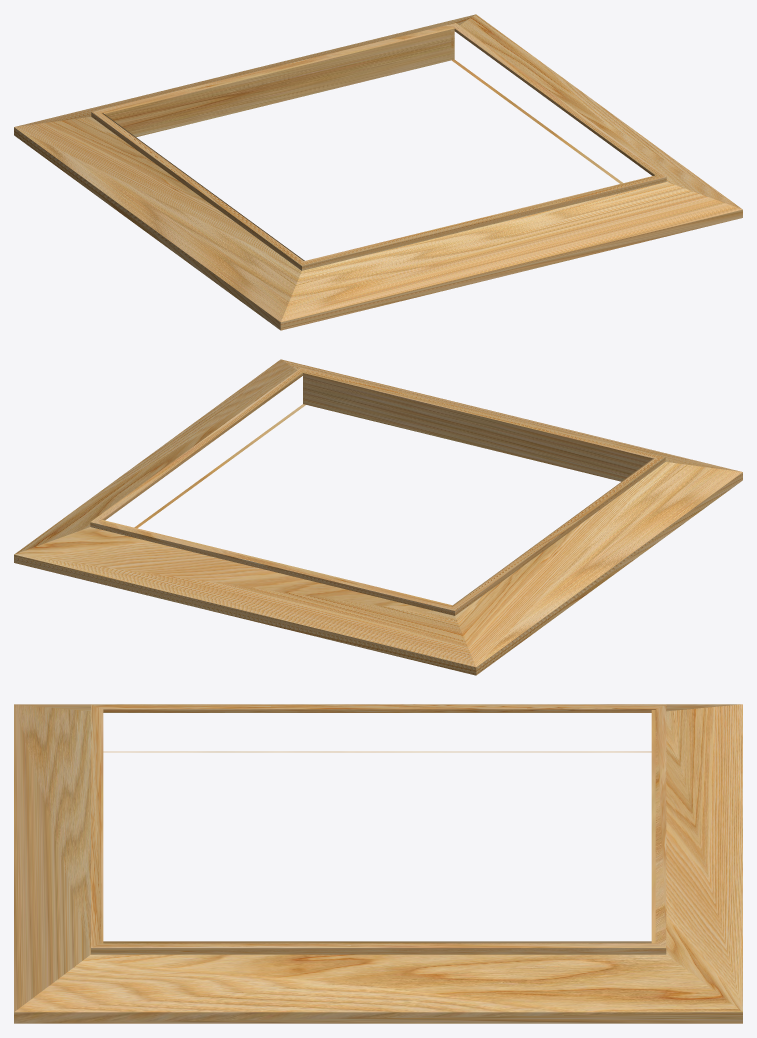
The model's file is chessboard.gltf.
3 views of the same model, one above another, from view 1: azimuth 30°, elevation 25°; view 2: azimuth 150°, elevation 25°; view 3: azimuth 270°, elevation 25° (orthographic). The views are drawn at different scales.
Visible parts, largest first — view 1: Plane; view 2: Plane; view 3: Plane.
Boxes of the visible parts, x1,y1,x2,y2 form: Plane: (14, 14, 742, 330); Plane: (14, 359, 742, 675); Plane: (14, 704, 742, 1023).
Bounding box in the file's own units: 10.36 × 0.6849 × 10.36.
1 material, 1 textured.
